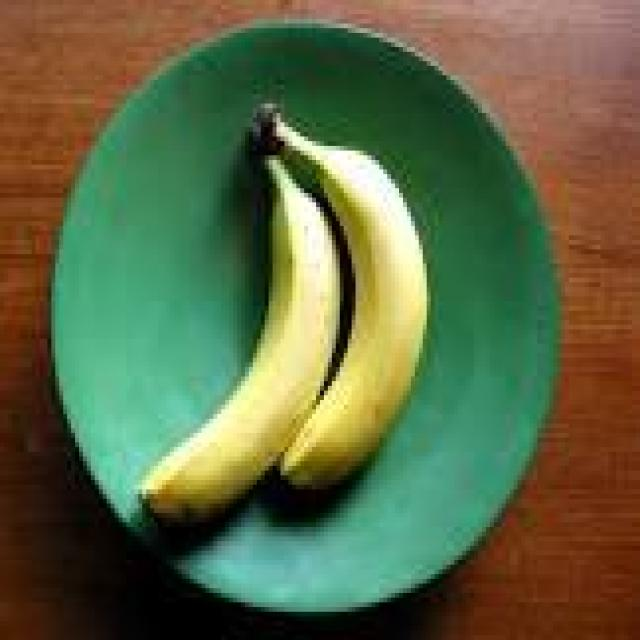banana: (139, 156, 339, 522), (261, 109, 426, 489)
